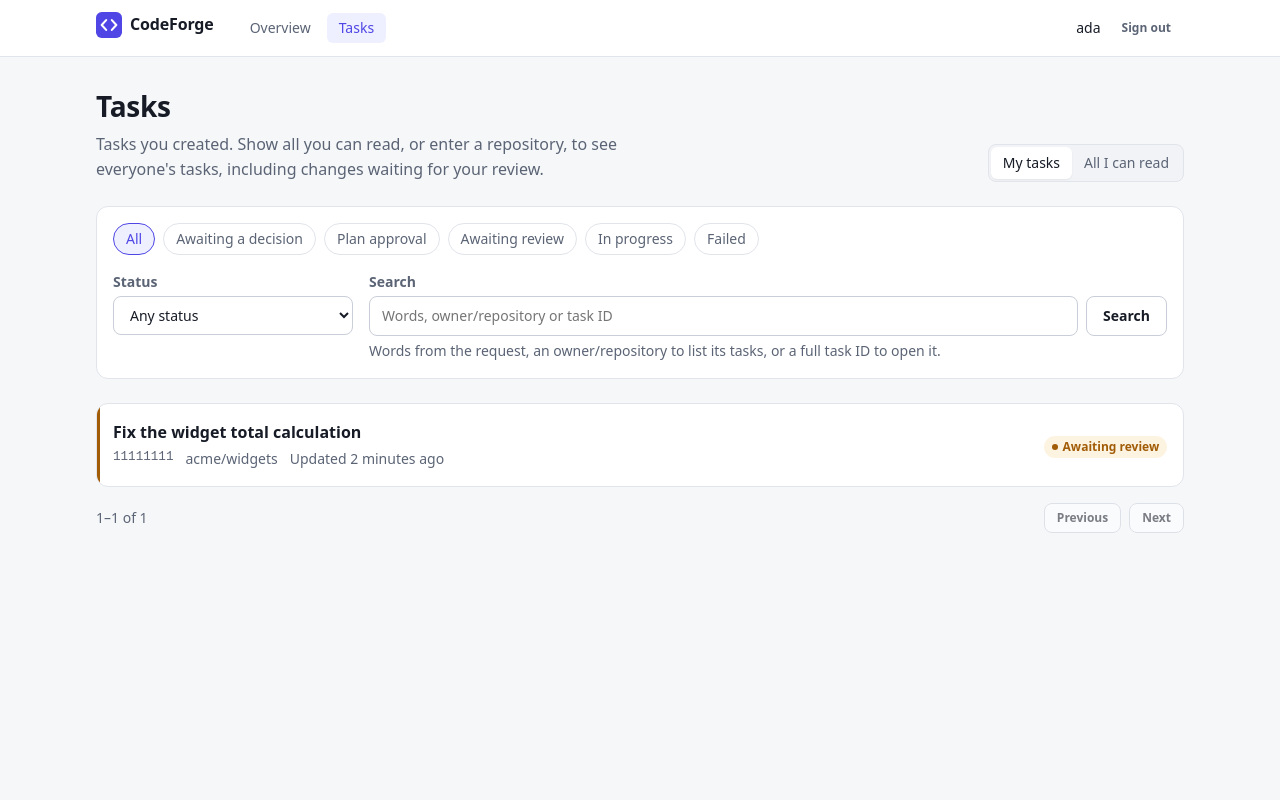
Test: page titles and focus › moves focus to the new page's content after navigating
This screenshot has width=1280, height=800.
Step 1. Click the link "Fix the widget total calculation" → (237, 432), box x1=97 y1=404 x2=1183 y2=486
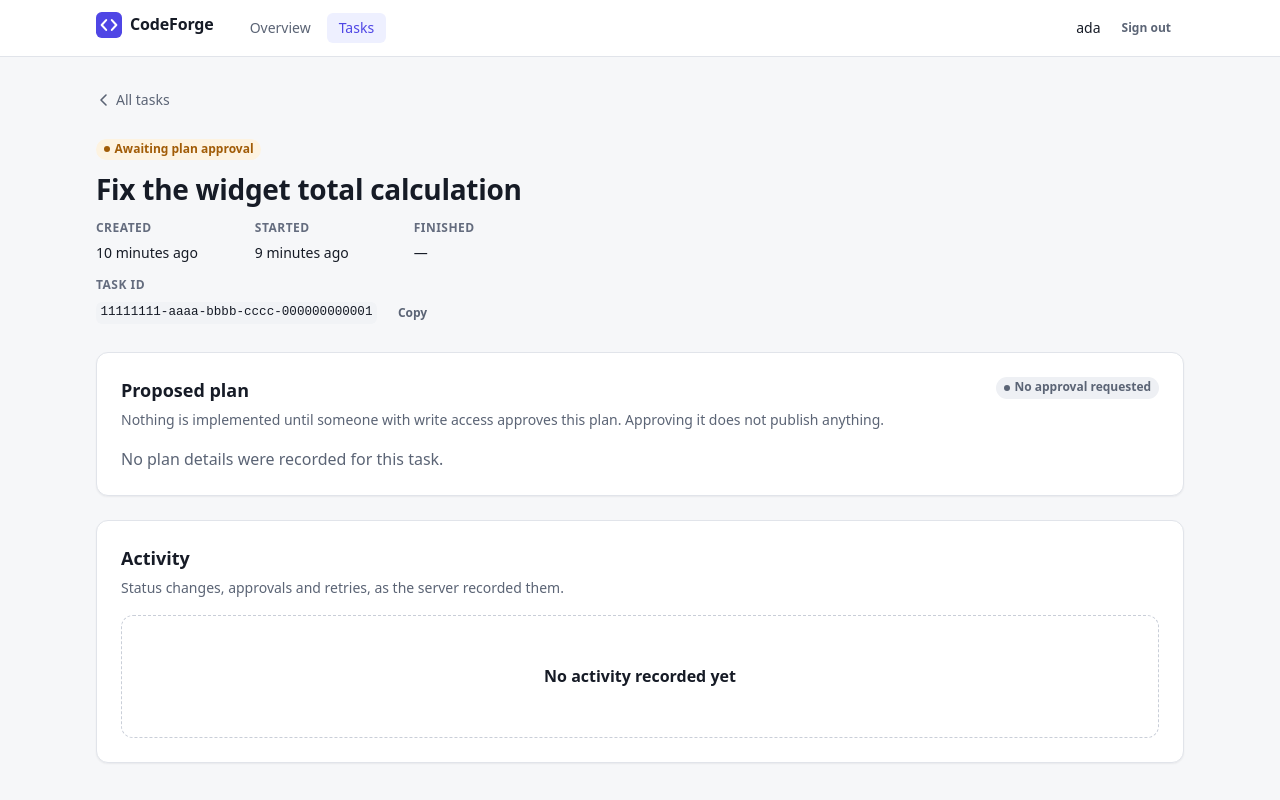
Now the link "All tasks" is shown, box x1=96 y1=89 x2=170 y2=111
